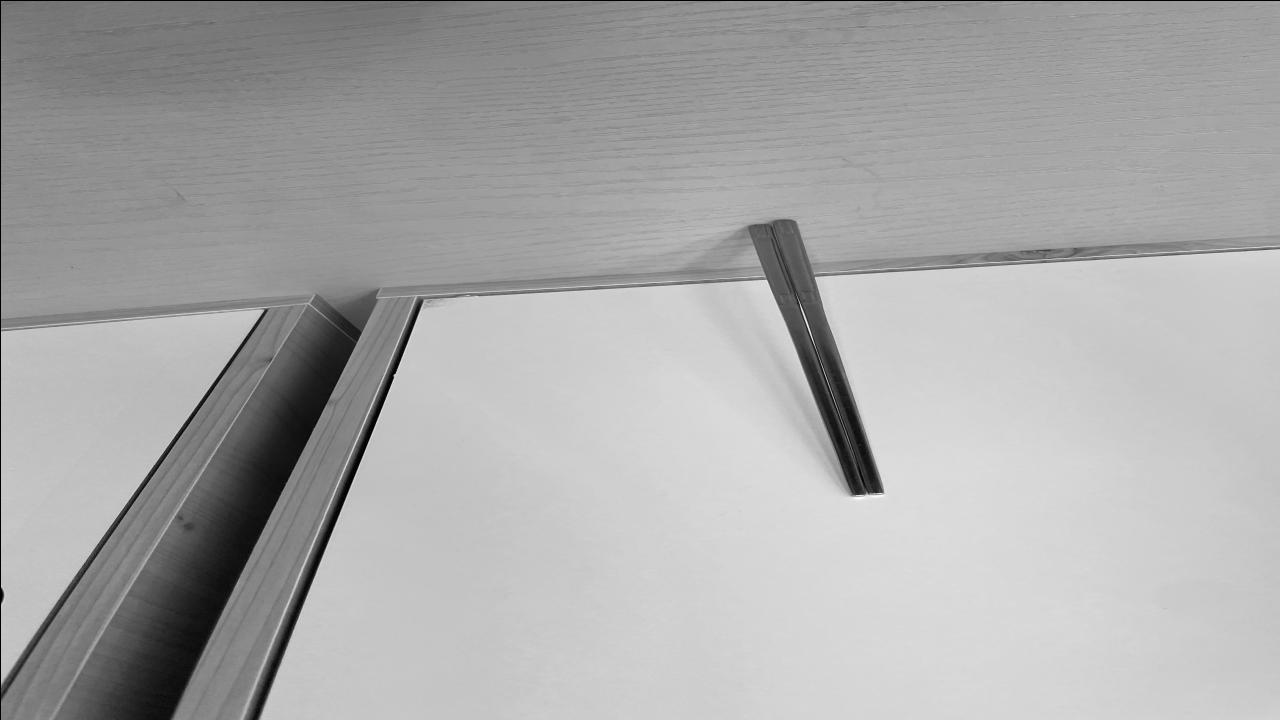chopstick: (746, 220, 888, 494)
